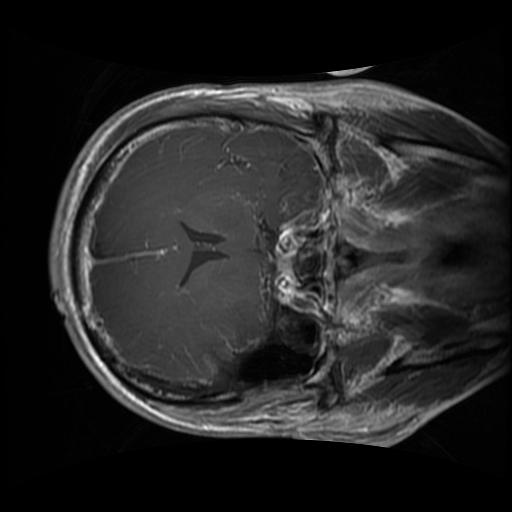glioma: (121, 300, 323, 402)
